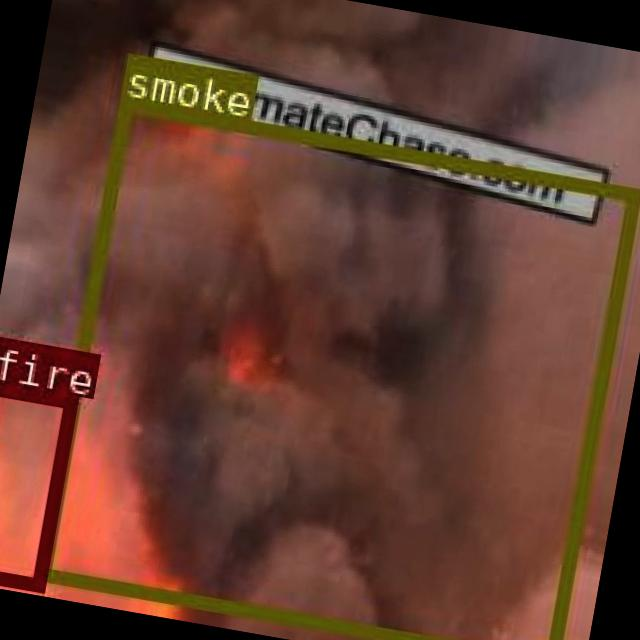fire: (0, 376, 74, 587)
smoke: (34, 95, 639, 640)
